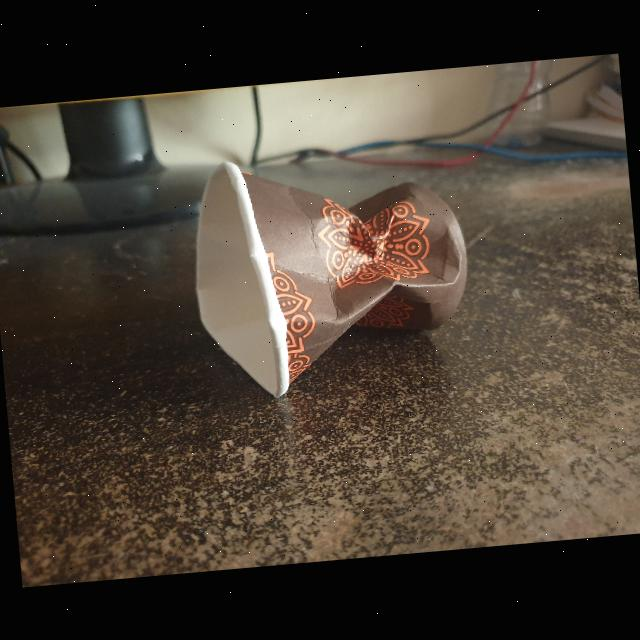trash: (180, 137, 480, 405)
